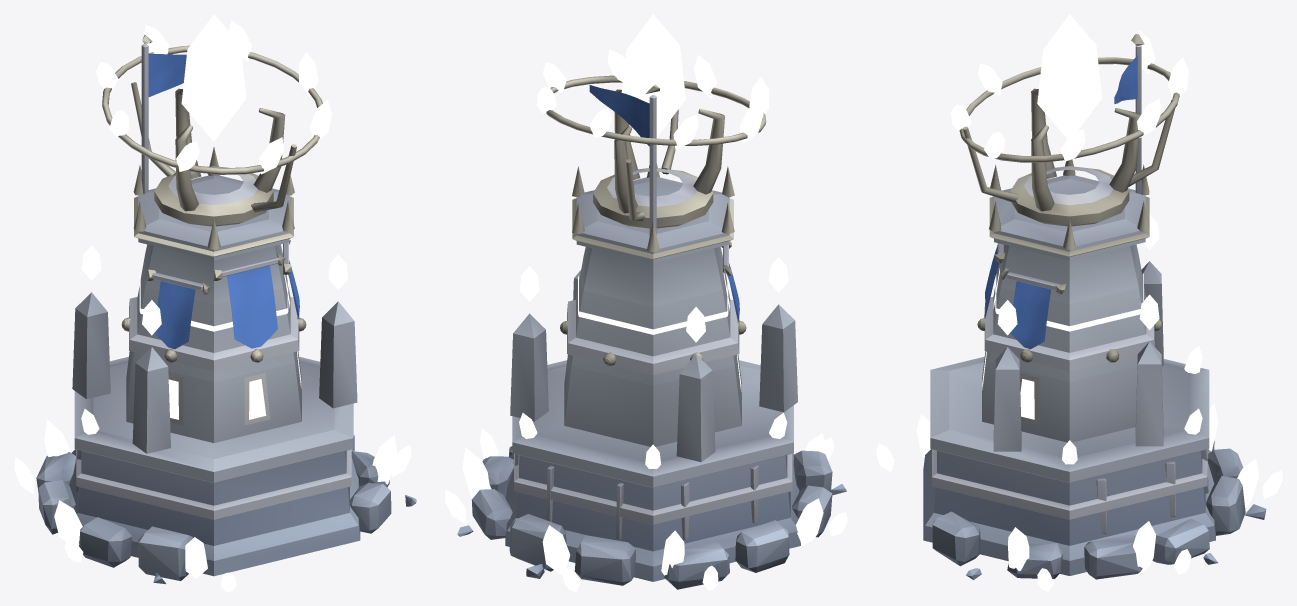
Rendered from frost_2_10.glb.
3 views of the same model, side by side, from view 1: azimuth 30°, elevation 25°; view 2: azimuth 150°, elevation 25°; view 3: azimuth 270°, elevation 25° (orthographic).
Visible parts, largest first — view 1: Tower, Turret; view 2: Tower, Turret; view 3: Tower, Turret.
Part boxes in pixels (box(x1,y1,x2,y2)): Tower: box(14, 35, 416, 591); Turret: box(96, 14, 331, 226); Tower: box(445, 85, 847, 591); Turret: box(537, 14, 769, 228); Tower: box(876, 34, 1282, 591); Turret: box(950, 14, 1188, 226).
Bounding box in the file's own units: 4.1 × 5.56 × 4.09.
